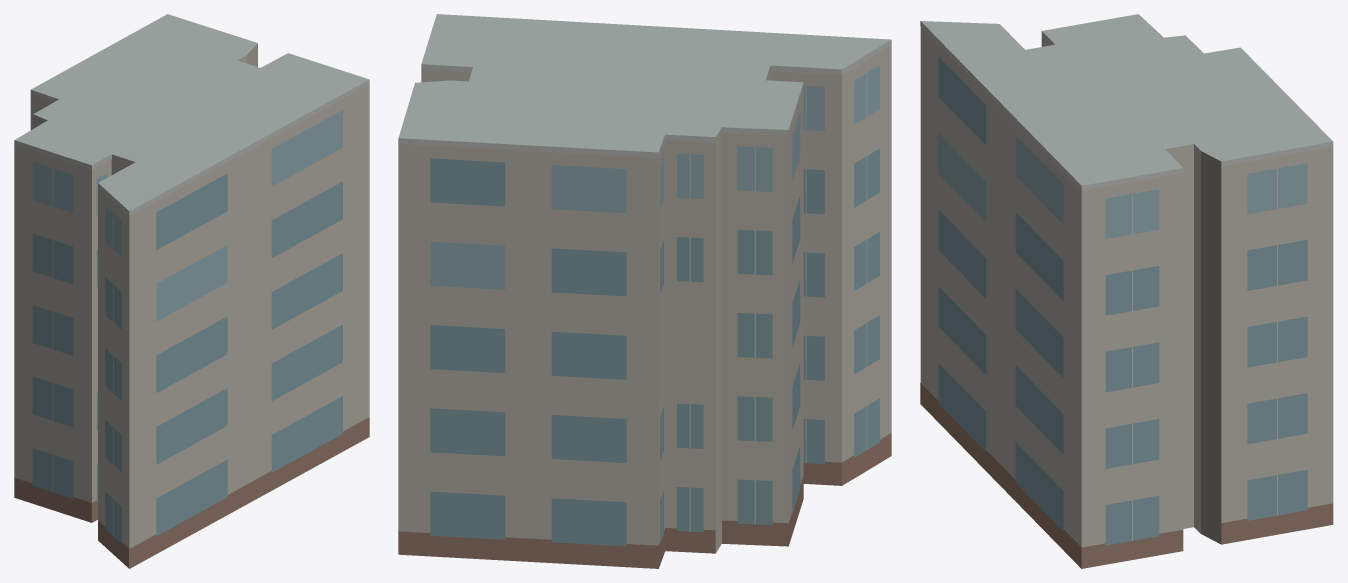
The model's file is survey-upis-32852050.glb.
3 views of the same model, side by side, from view 1: azimuth 30°, elevation 25°; view 2: azimuth 150°, elevation 25°; view 3: azimuth 270°, elevation 25° (orthographic). The views are drawn at different scales.
Visible parts, largest first — view 1: survey-upis-32852050.tmp; view 2: survey-upis-32852050.tmp; view 3: survey-upis-32852050.tmp.
Boxes of the visible parts, bbox=[...] form: survey-upis-32852050.tmp: bbox=[14, 14, 369, 568]; survey-upis-32852050.tmp: bbox=[398, 14, 891, 568]; survey-upis-32852050.tmp: bbox=[920, 14, 1333, 568].
Size of the model in its own units: 17.37 by 18.05 by 17.64.
